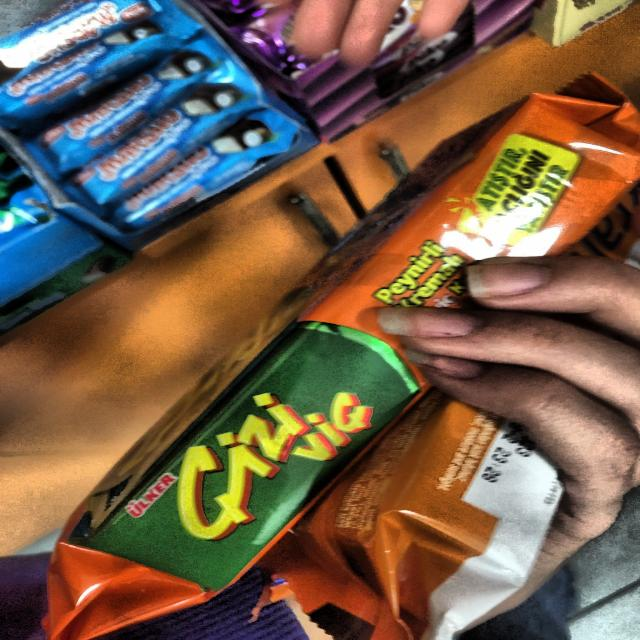Plastic: (17, 95, 640, 631), (35, 31, 234, 173), (77, 66, 260, 208), (0, 0, 189, 125)
